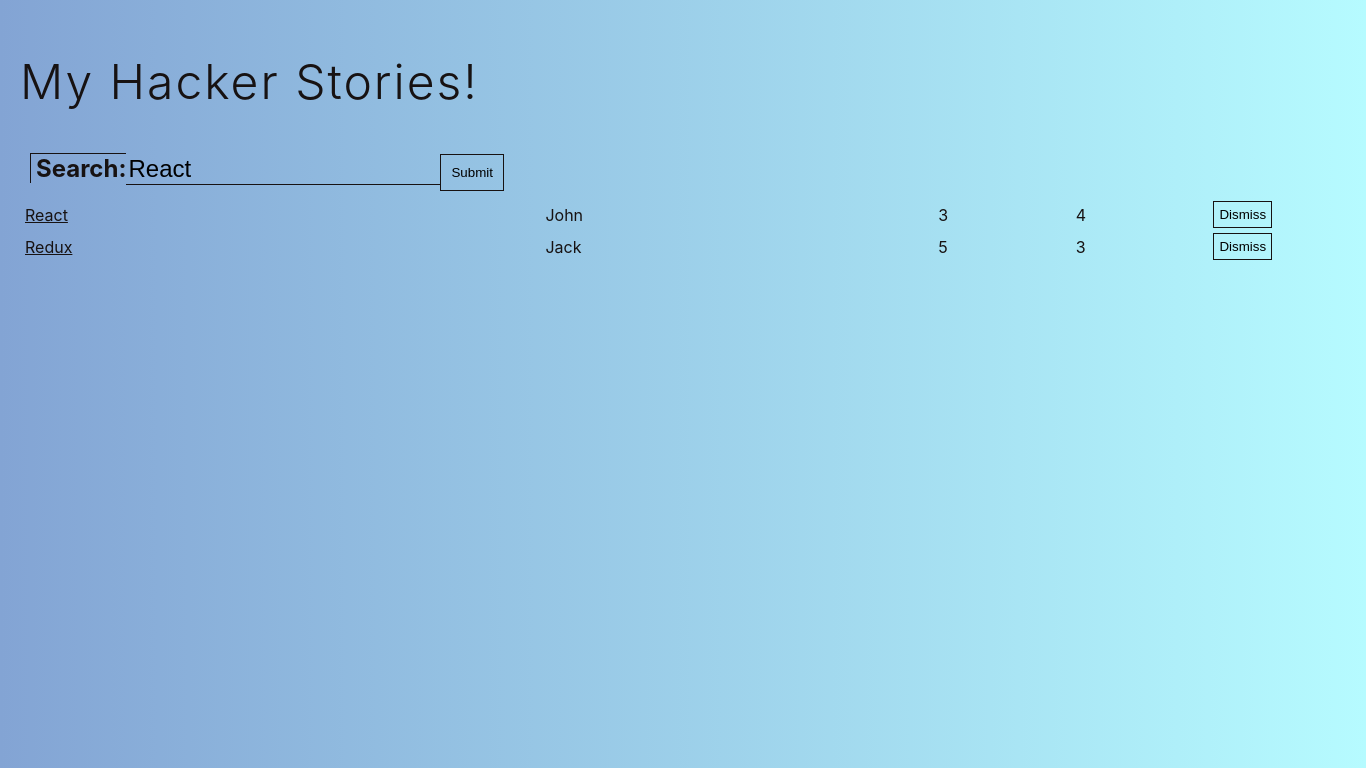
Test: App › removes a story
Expected: the text "John" is shown, 545,205 -> 583,225
Click the button "Dismiss" in the row of "John" at (1243, 215), box 1213,201 -> 1272,228
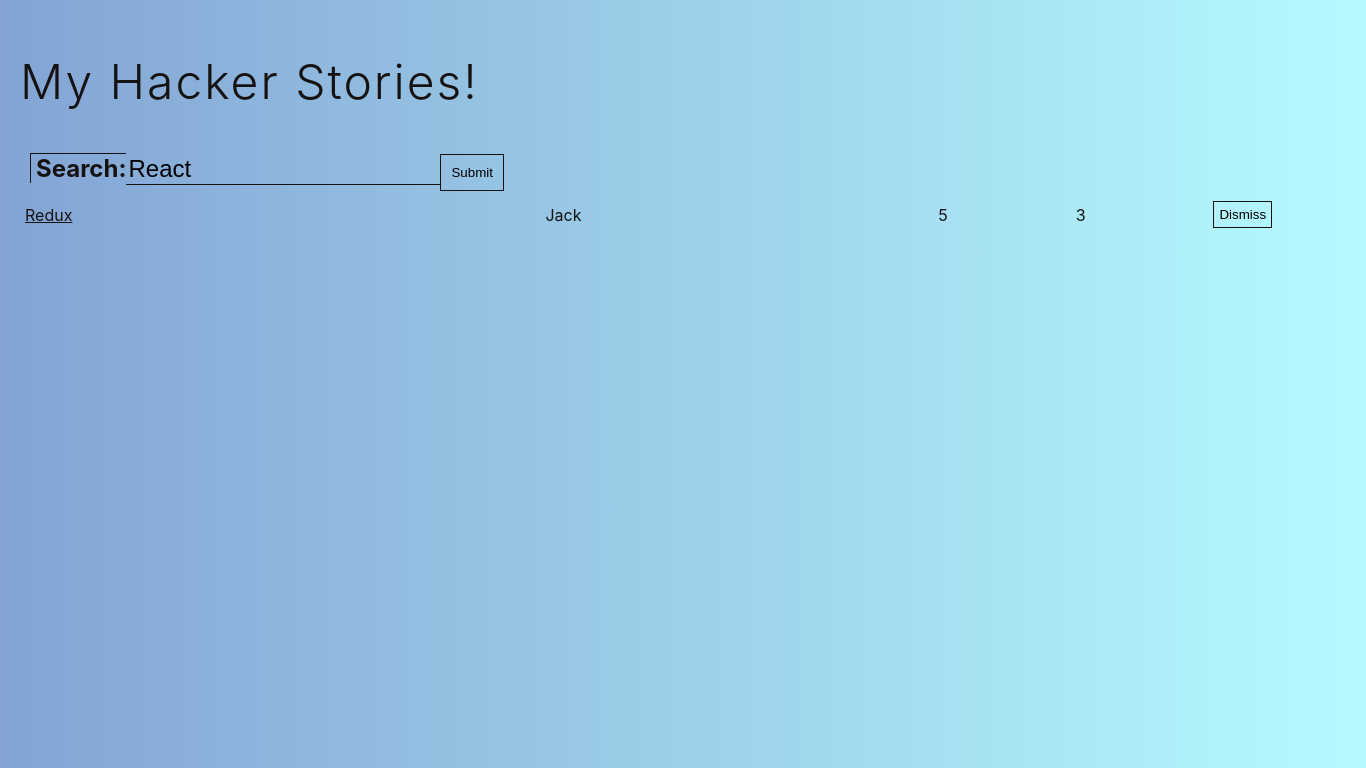
Now the number of buttons "Dismiss" is 1, box 1213,201 -> 1272,228
Now the text "John" is gone
